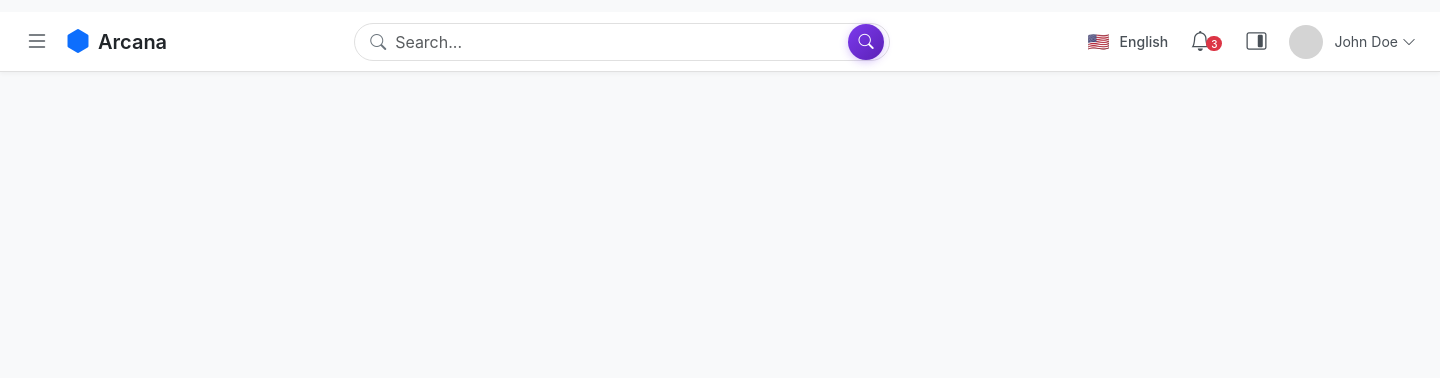
Test: Header › should open language dropdown when clicked
This screenshot has width=1440, height=378.
Click the button with aria-label "Select language". click: click(1128, 42)
box: [1077,26,1178,56]
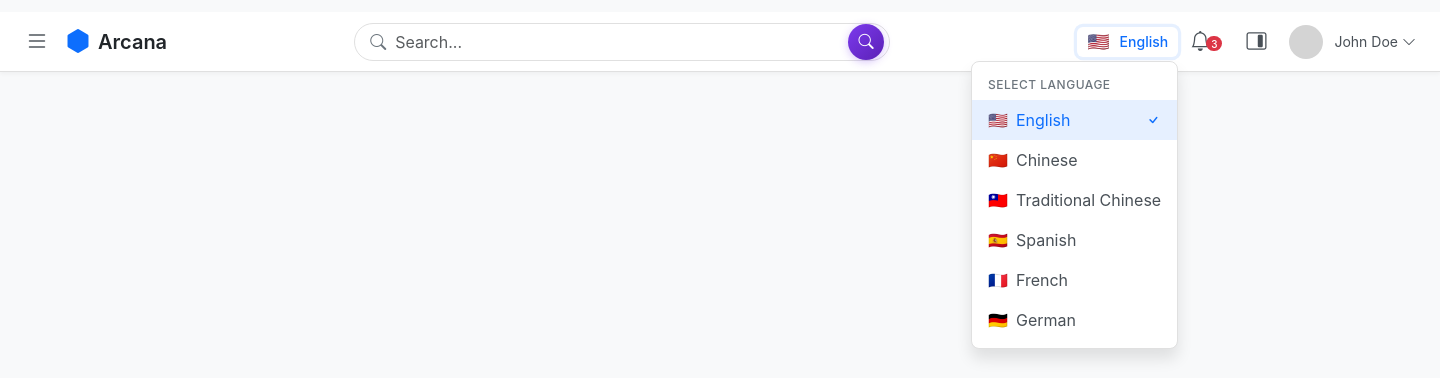
Result: the heading "Select Language" is shown at [988,76,1111,92]
